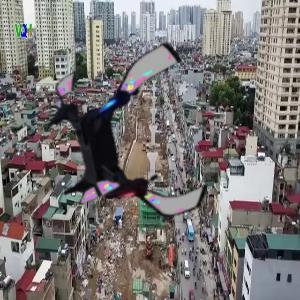drone: (38, 50, 227, 239)
